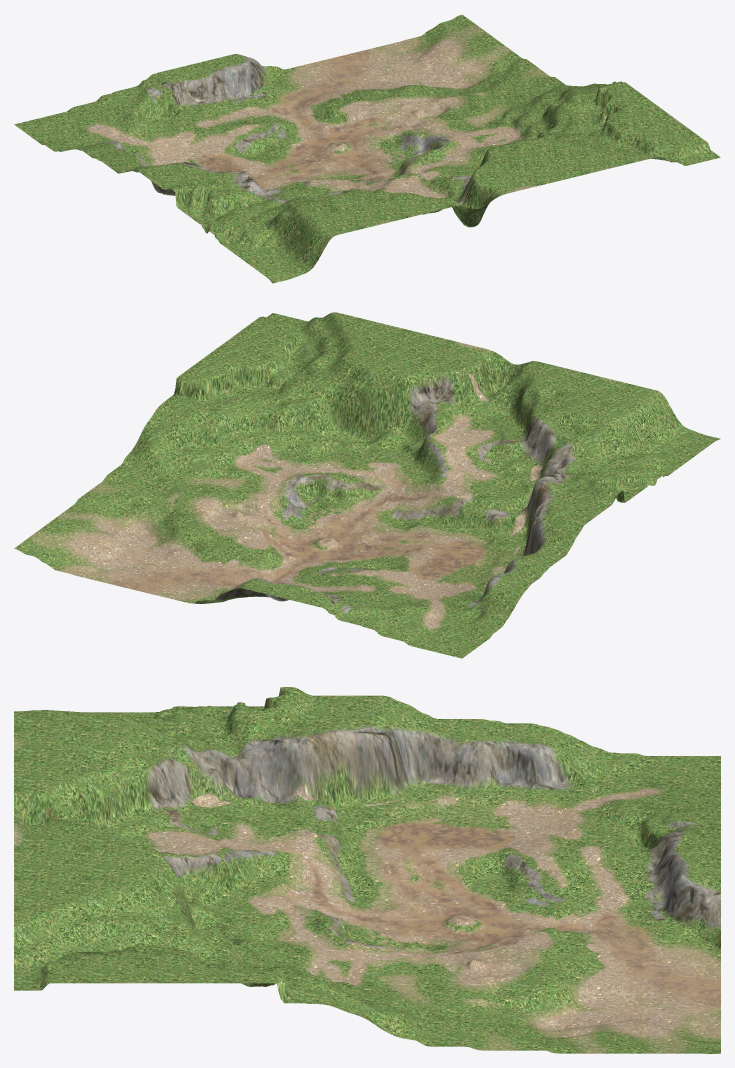
The model's file is Terrain.FBX.
The picture shows the model from 3 angles, top to bottom: view 1: azimuth 30°, elevation 25°; view 2: azimuth 150°, elevation 25°; view 3: azimuth 270°, elevation 25°; orthographic projection. The views are drawn at different scales.
Parts seen in each view (by area): view 1: Terrain; view 2: Terrain; view 3: Terrain.
Boxes of the visible parts, bbox=[...] form: Terrain: bbox=[14, 14, 720, 283]; Terrain: bbox=[14, 312, 720, 658]; Terrain: bbox=[14, 687, 720, 1053].
Bounding box in the file's own units: 100 × 16.4 × 100.
